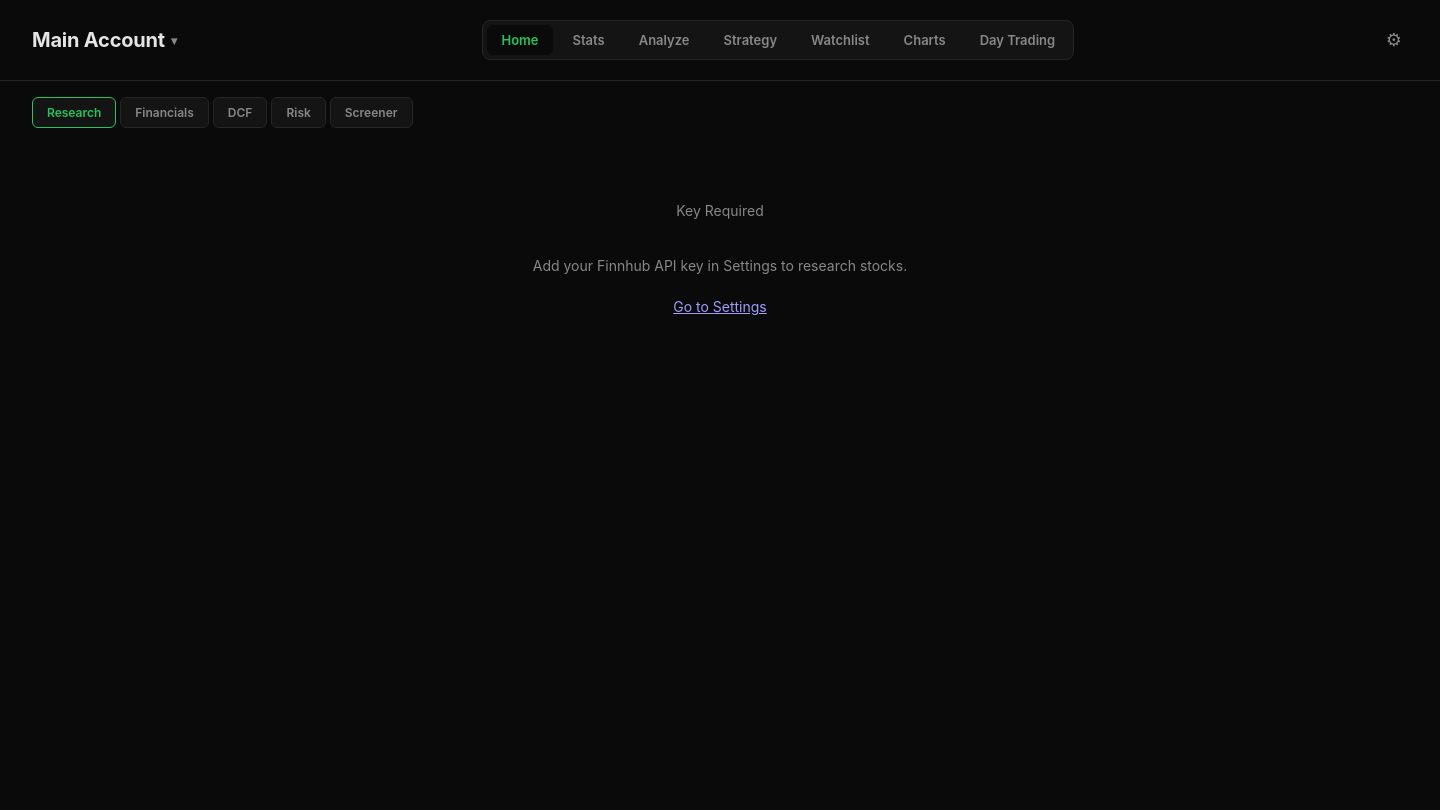
Test: AnalyzePage › renders the Screener tab
The width and height of the screenshot is (1440, 810).
Click the button "Screener" at (371,112), box [330,97,412,128]
(page scrolled)
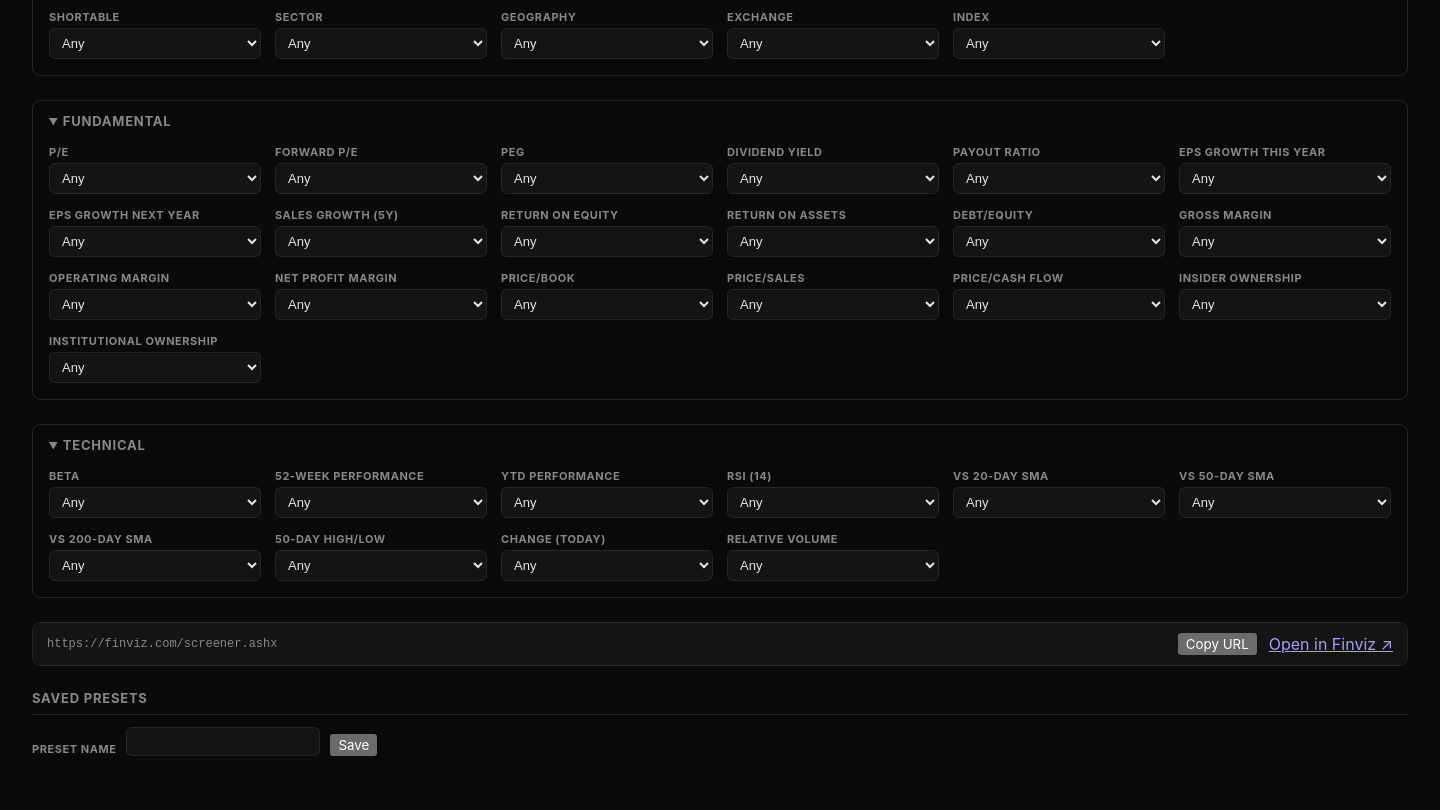
Expected: the text "https://finviz.com/screener.ashx" is shown, [47,637,277,651]
